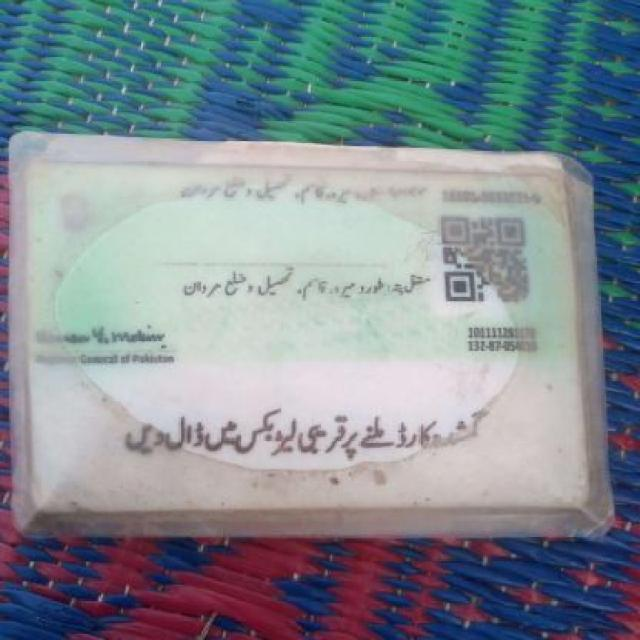Back: (17, 151, 598, 520)
